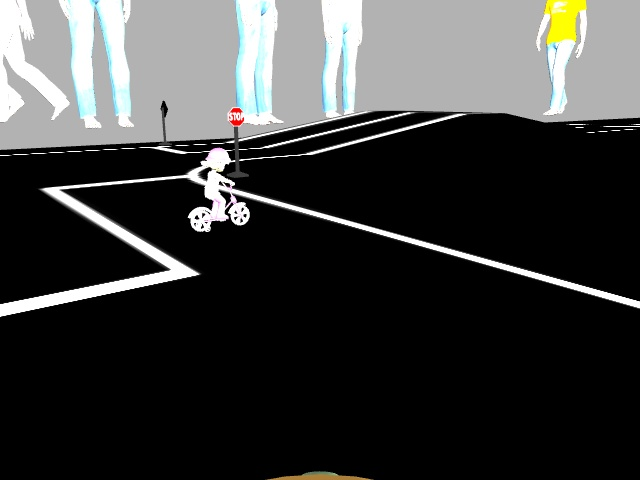Pedestrian: (185, 144, 253, 232)
Stop: (224, 106, 248, 126)
